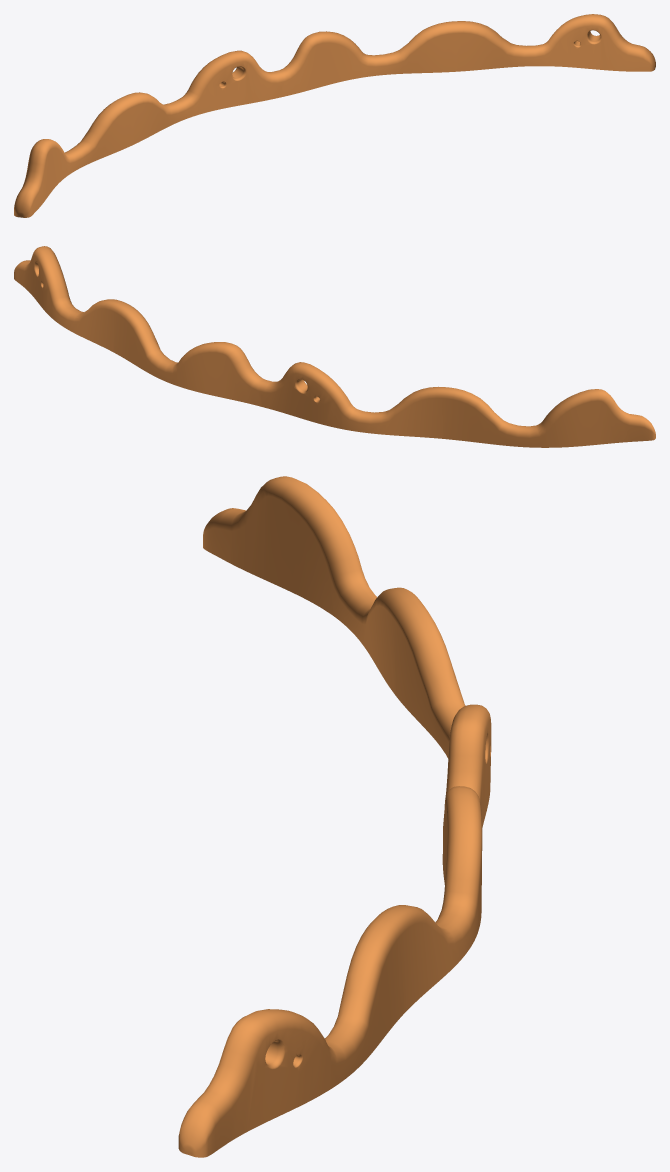
Rendered from d1_wall.fbx.
3 views of the same model, one above another, from view 1: azimuth 30°, elevation 25°; view 2: azimuth 150°, elevation 25°; view 3: azimuth 270°, elevation 25° (orthographic). The views are drawn at different scales.
Parts seen in each view (by area): view 1: d1_wall; view 2: d1_wall; view 3: d1_wall.
Part boxes in pixels (x1,y1,x2,y2): d1_wall: (14, 14, 655, 217); d1_wall: (14, 246, 655, 447); d1_wall: (178, 476, 491, 1157).
Bounding box in the file's own units: 4199 × 315 × 895.
